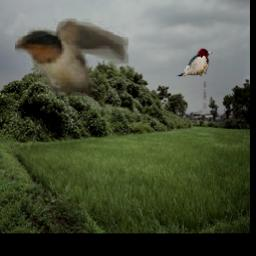Swallow: (16, 20, 130, 97)
Woodpecker: (175, 49, 213, 77)
